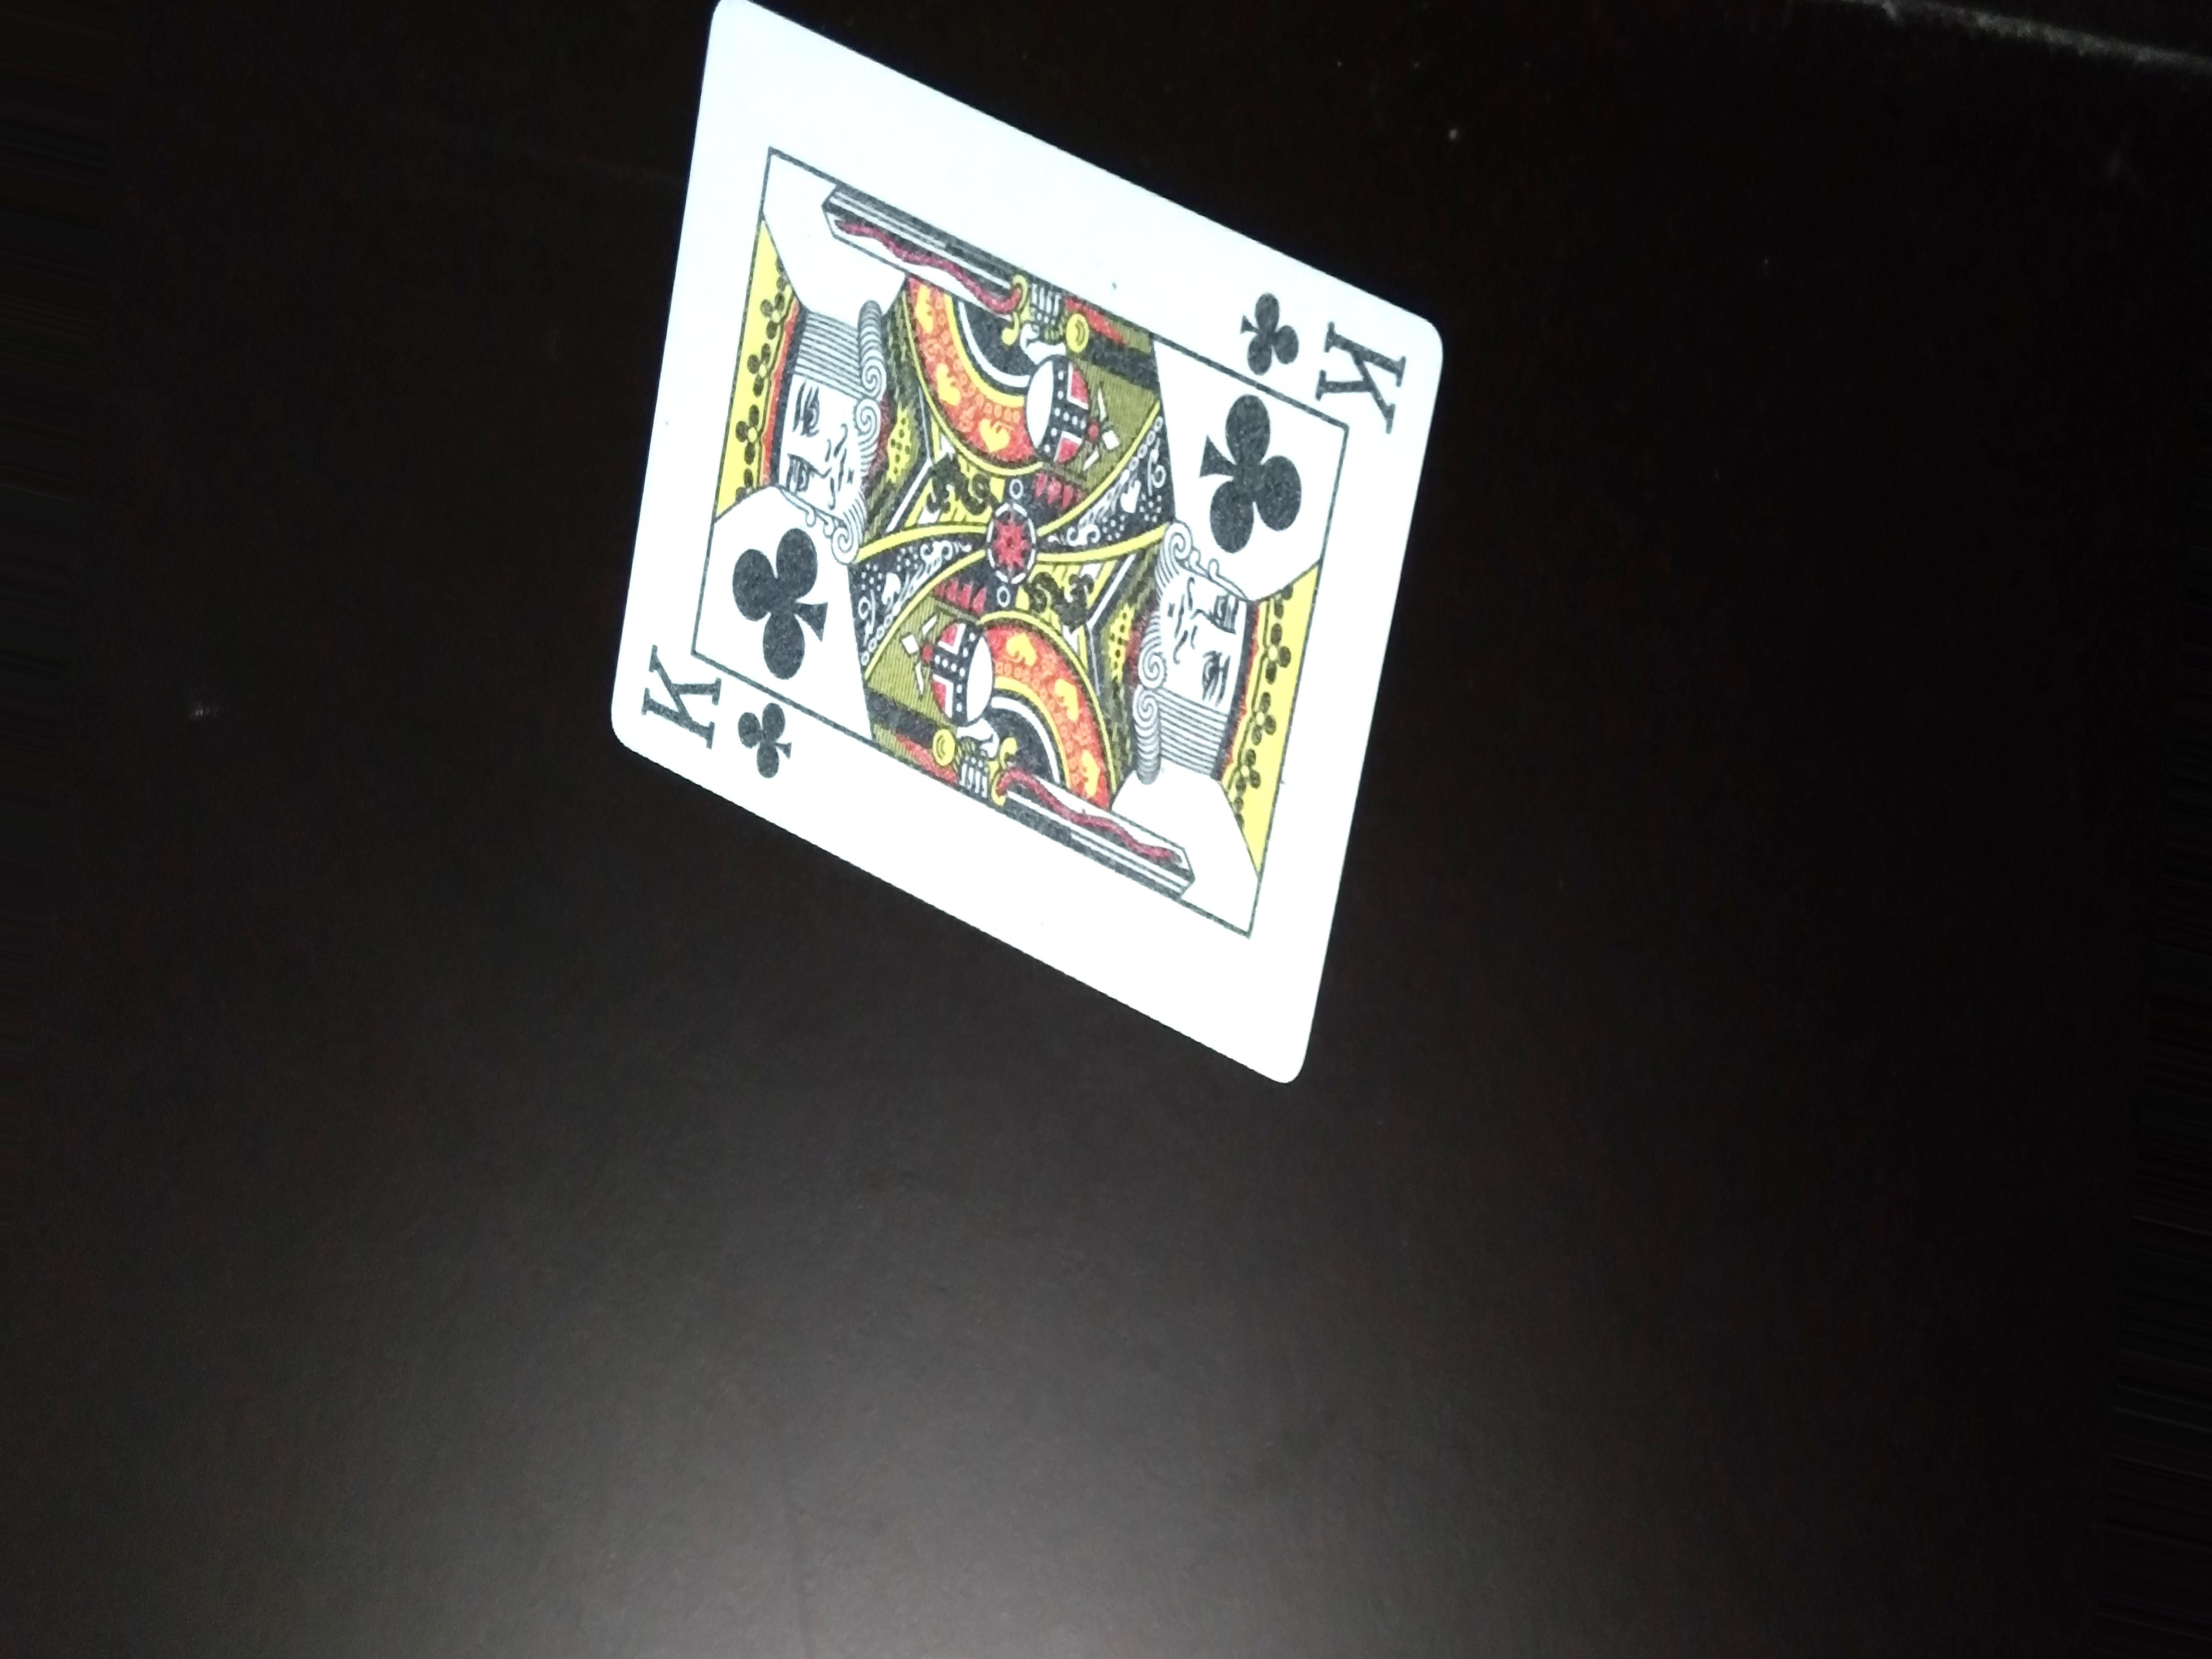KC: (629, 643, 817, 800)
